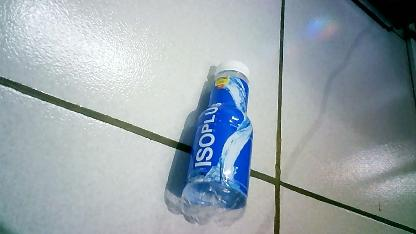Plastic Bottle: (175, 56, 257, 230)
